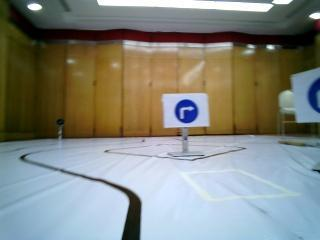right: (160, 94, 210, 127), (294, 69, 320, 125)
